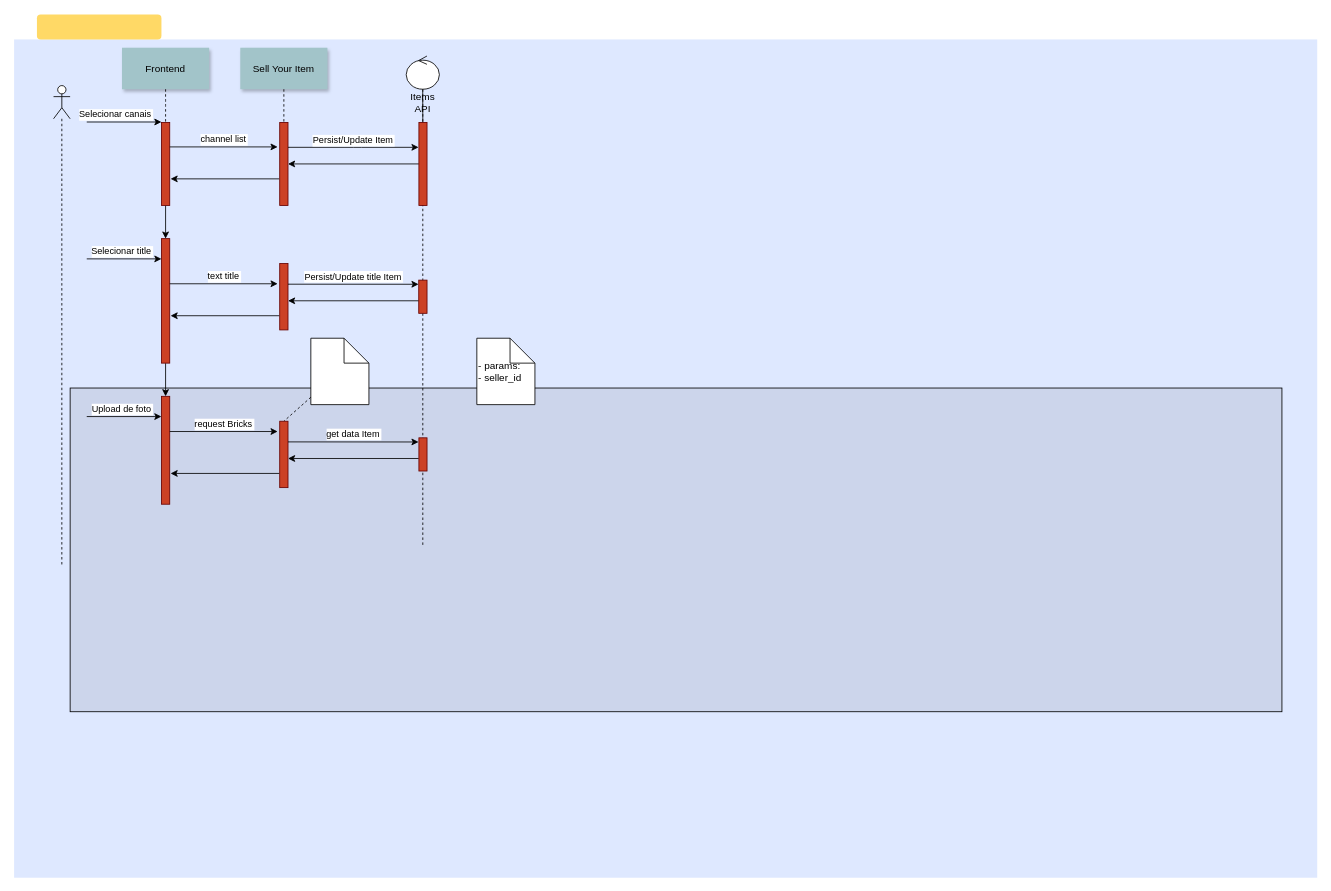
Image size: 1331x891. Some labels were removed from this diagram. Each missing label, with the centre of its shape:
"- params: - item_id" goes at (x=339, y=371).
"rt submit_changes" goes at (x=99, y=26).
